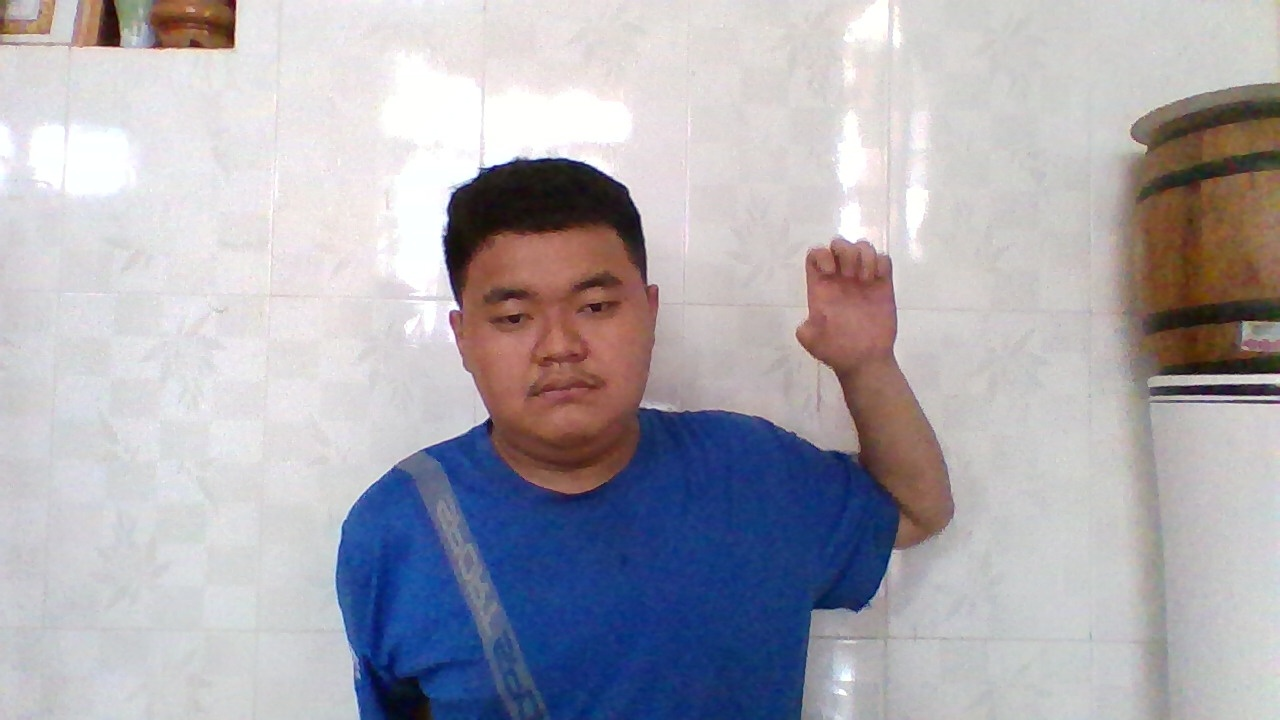E: (787, 227, 902, 382)
